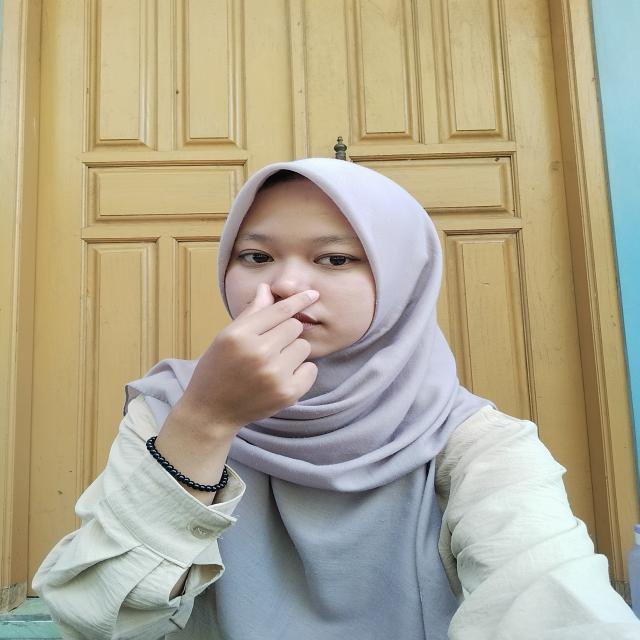bau: (183, 271, 341, 446)
